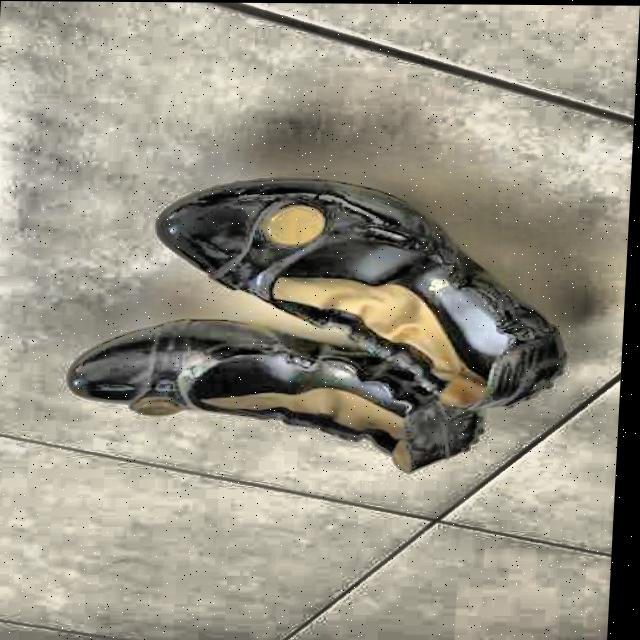shoes: (56, 176, 581, 474)
